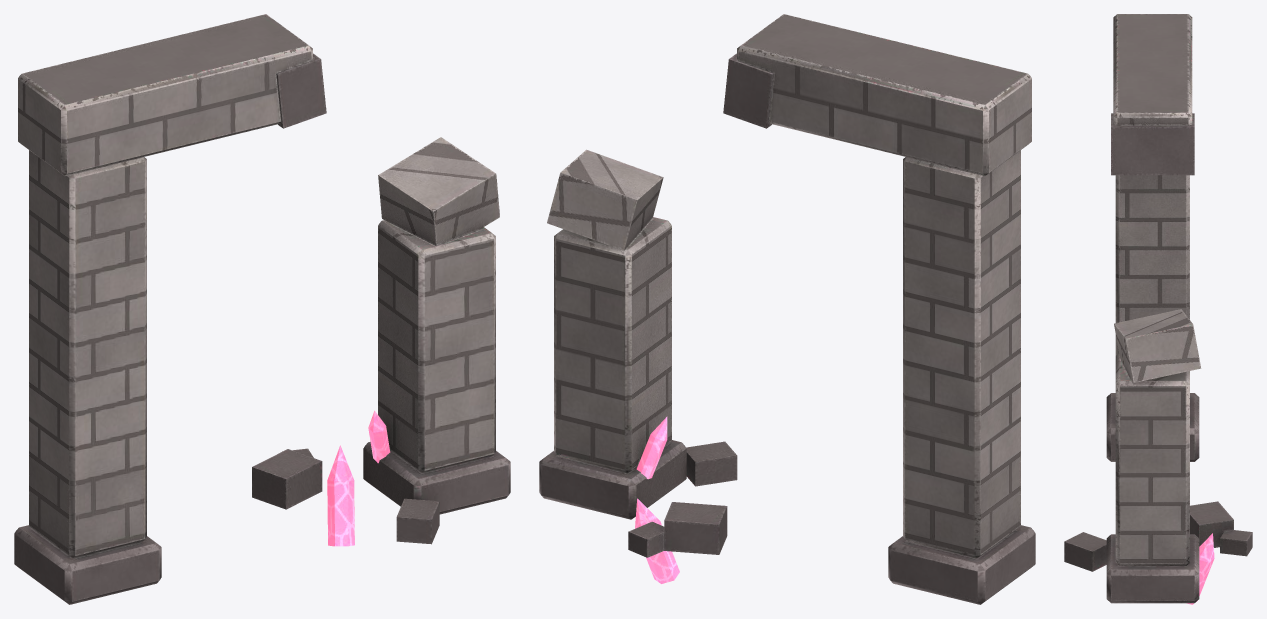
The model's file is arco_partido.glb.
The picture shows the model from 3 angles, left to right: view 1: azimuth 30°, elevation 25°; view 2: azimuth 150°, elevation 25°; view 3: azimuth 270°, elevation 25°; orthographic projection. The views are drawn at different scales.
Visible parts, largest first — view 1: arco_partido; view 2: arco_partido; view 3: arco_partido.
Part boxes in pixels (x1,y1,x2,y2): arco_partido: (14, 14, 510, 604); arco_partido: (539, 14, 1035, 604); arco_partido: (1064, 14, 1252, 604).
Bounding box in the file's own units: 4.63 × 5.44 × 2.03.
1 material, 1 textured.
